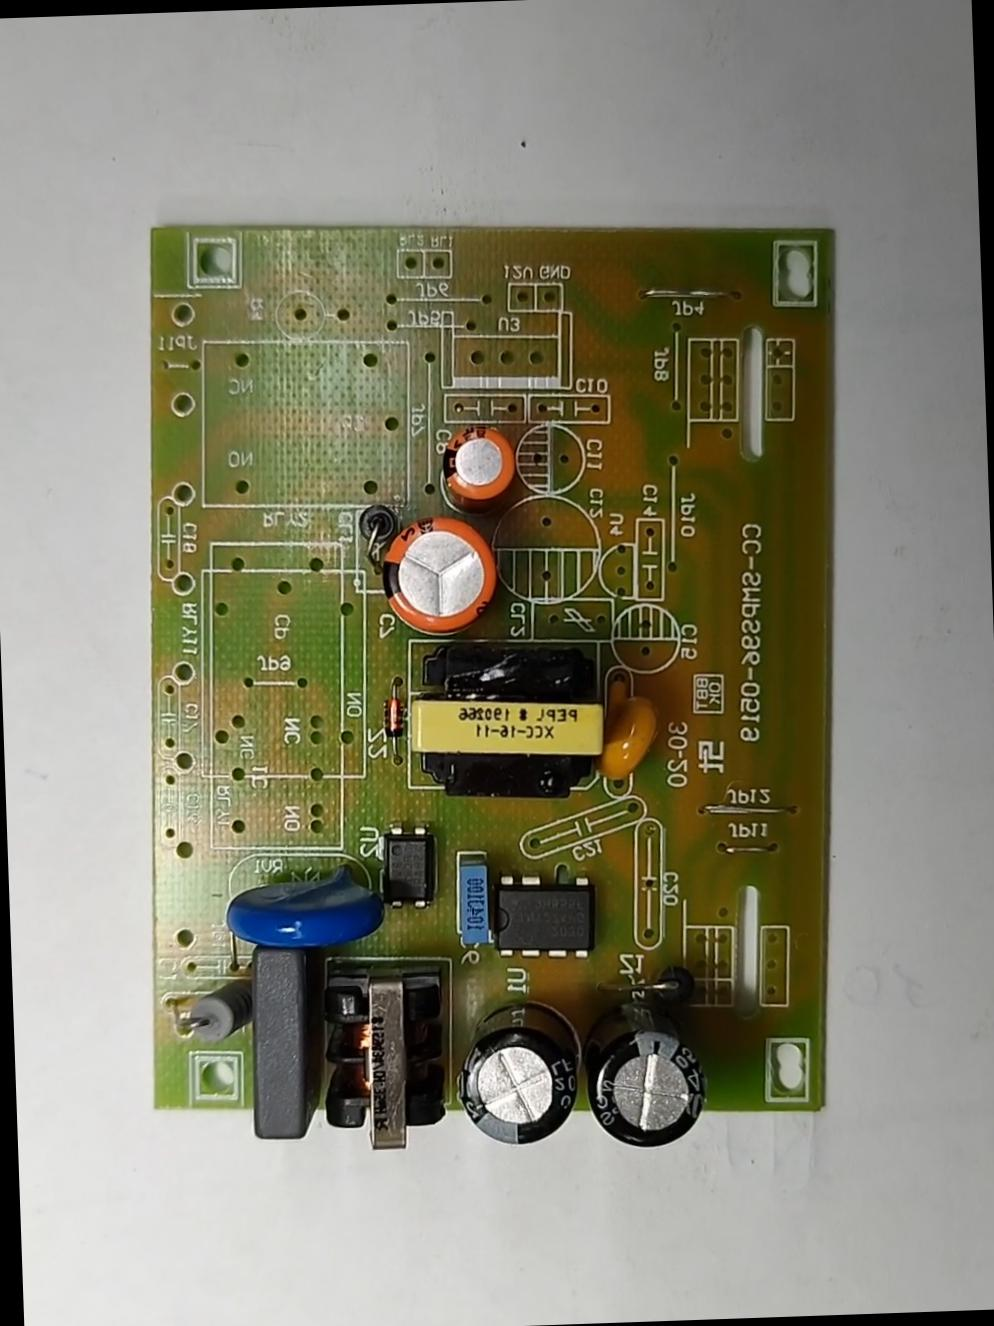Cap1: (380, 505, 498, 641)
Cap2: (439, 422, 518, 502)
Cap3: (455, 1000, 579, 1149)
Cap4: (587, 991, 706, 1149)
MOSFET: (488, 869, 595, 963)
Mov: (222, 863, 385, 954)
Resistor: (182, 970, 252, 1044)
Transformer: (405, 644, 610, 809), (313, 962, 447, 1158)
